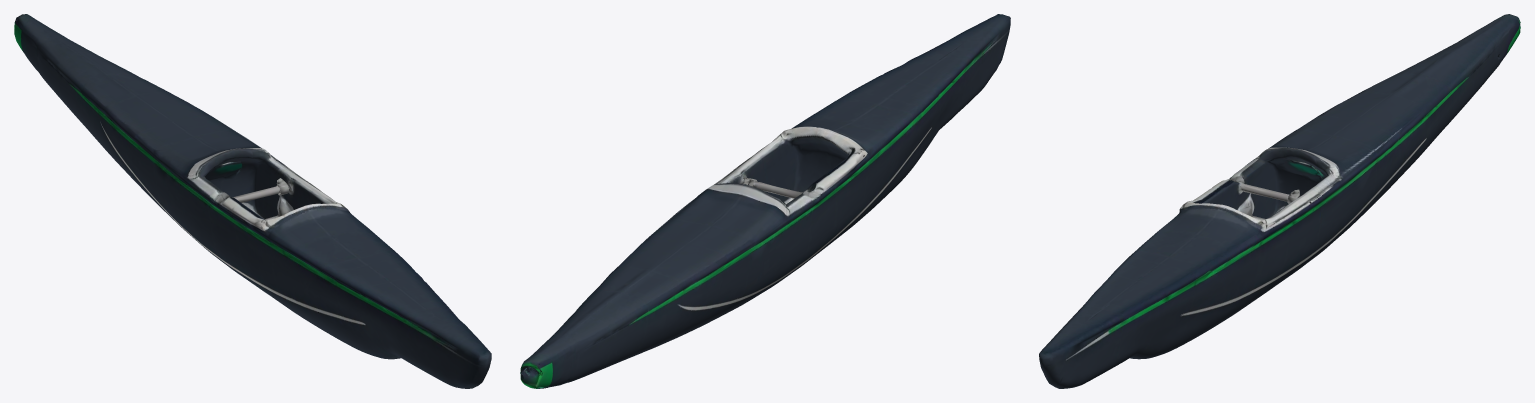
The model's file is scull-green.glb.
The picture shows the model from 3 angles, left to right: view 1: azimuth 30°, elevation 25°; view 2: azimuth 150°, elevation 25°; view 3: azimuth 330°, elevation 25°; orthographic projection. The views are drawn at different scales.
Visible parts, largest first — view 1: tripo_node_7c61fb4e-5ffb-4cdc-b51b-36e07bea47b6; view 2: tripo_node_7c61fb4e-5ffb-4cdc-b51b-36e07bea47b6; view 3: tripo_node_7c61fb4e-5ffb-4cdc-b51b-36e07bea47b6.
Boxes of the visible parts, x1,y1,x2,y2 form: tripo_node_7c61fb4e-5ffb-4cdc-b51b-36e07bea47b6: (14,14,491,388); tripo_node_7c61fb4e-5ffb-4cdc-b51b-36e07bea47b6: (520,14,1010,388); tripo_node_7c61fb4e-5ffb-4cdc-b51b-36e07bea47b6: (1039,14,1520,388).
Bounding box in the file's own units: 0.1095 × 0.1242 × 0.9832.
Materials: 1 (1 with a texture image).
